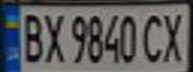0: (118, 10, 142, 64)
4: (103, 10, 124, 64)
8: (84, 11, 106, 64)
9: (66, 10, 87, 64)
B: (15, 9, 45, 63)
C: (139, 10, 166, 64)
X: (157, 9, 190, 64), (39, 9, 69, 65)
